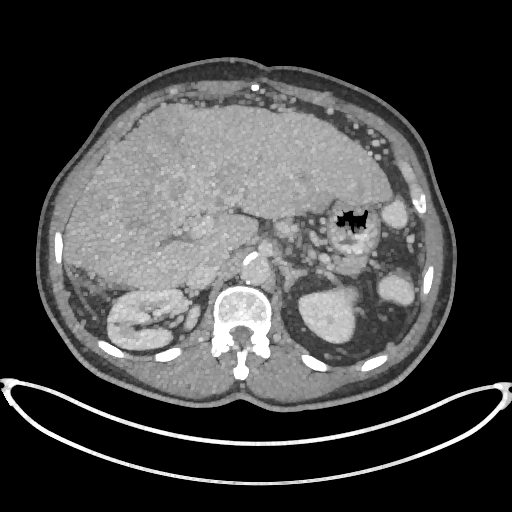Lesion: (110, 318, 121, 329)
